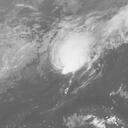cyclone: (47, 30, 93, 74)
